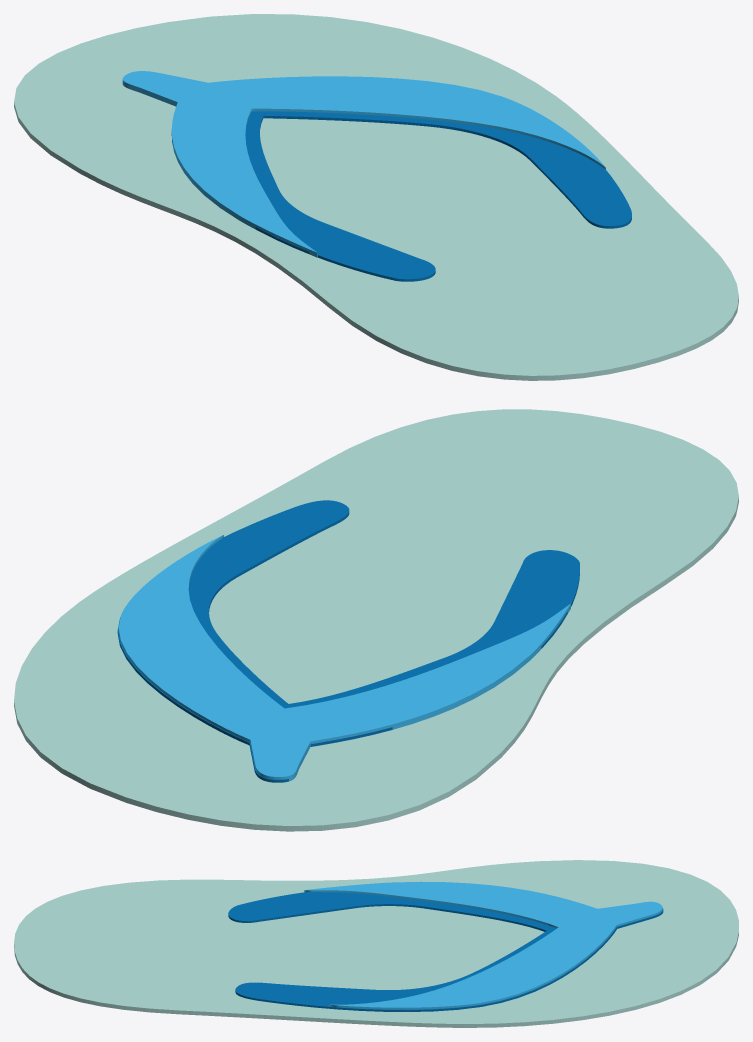
File: emoji_u1fa74.glb
The picture shows the model from 3 angles, top to bottom: view 1: azimuth 30°, elevation 25°; view 2: azimuth 150°, elevation 25°; view 3: azimuth 270°, elevation 25°; orthographic projection. The views are drawn at different scales.
Visible parts, largest first — view 1: emoji_u1fa74; view 2: emoji_u1fa74; view 3: emoji_u1fa74.
Boxes of the visible parts, x1,y1,x2,y2 form: emoji_u1fa74: (14, 14, 738, 380); emoji_u1fa74: (14, 409, 738, 831); emoji_u1fa74: (14, 860, 738, 1027).
Size of the model in its own units: 0.0181 by 0.0006 by 0.0338.
